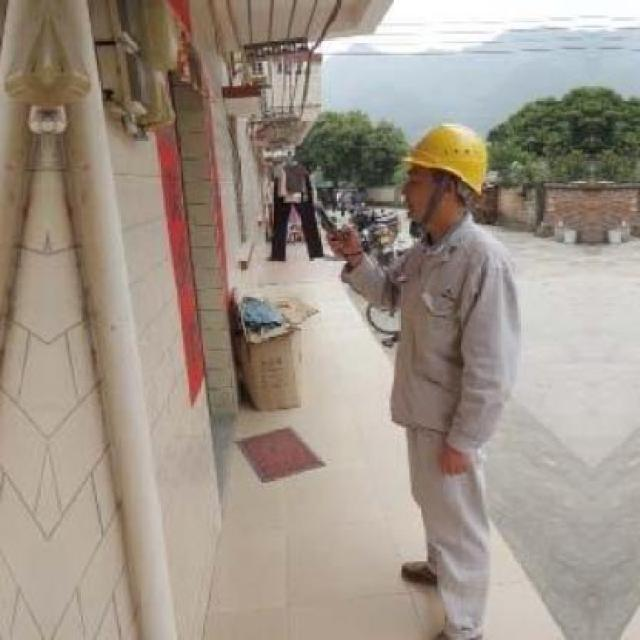helmet: (395, 113, 494, 235)
